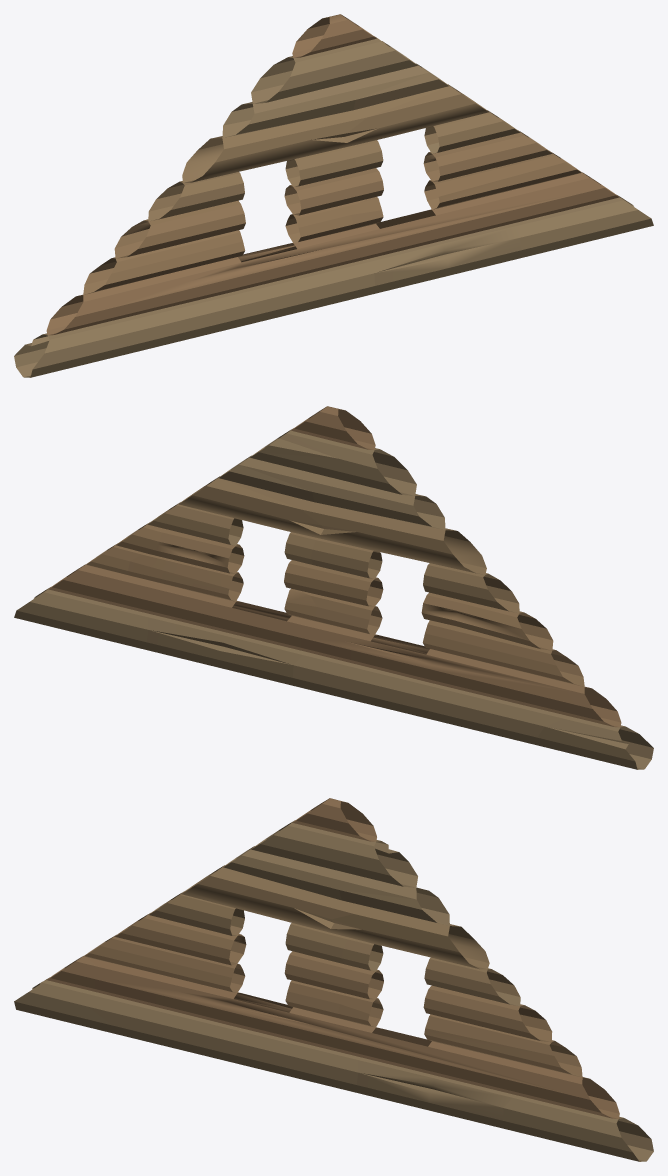
The model's file is rpgpp_ag_roof_end_01_9x4_wall_window_01d.fbx.
3 views of the same model, one above another, from view 1: azimuth 30°, elevation 25°; view 2: azimuth 150°, elevation 25°; view 3: azimuth 330°, elevation 25° (orthographic).
Visible parts, largest first — view 1: rpgpp_ag_roof_end_01_9x4_wall_window_01d; view 2: rpgpp_ag_roof_end_01_9x4_wall_window_01d; view 3: rpgpp_ag_roof_end_01_9x4_wall_window_01d.
Boxes of the visible parts, left/top/right/bottom form: rpgpp_ag_roof_end_01_9x4_wall_window_01d: left=14, top=14, right=653, bottom=377; rpgpp_ag_roof_end_01_9x4_wall_window_01d: left=14, top=406, right=653, bottom=769; rpgpp_ag_roof_end_01_9x4_wall_window_01d: left=14, top=798, right=653, bottom=1161.
Bounding box in the file's own units: 9 × 3.94 × 0.4626.
